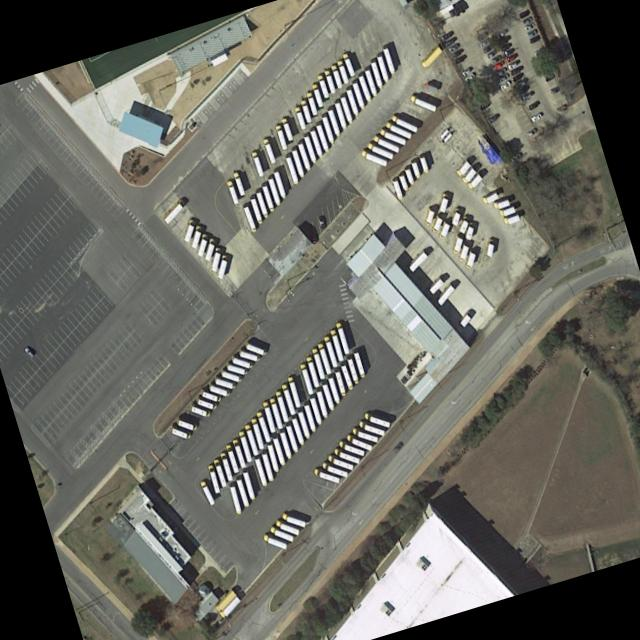large-vehicle: (162, 198, 186, 223), (404, 250, 427, 275), (433, 283, 455, 308), (420, 44, 442, 68), (243, 422, 259, 455), (255, 409, 271, 441), (359, 148, 387, 166), (299, 361, 314, 394), (390, 113, 417, 131), (280, 382, 295, 414), (365, 141, 393, 158), (410, 92, 436, 110), (335, 320, 349, 353), (238, 428, 252, 461), (329, 327, 343, 360), (287, 373, 301, 406), (384, 120, 411, 137), (379, 127, 406, 144), (372, 134, 399, 151), (231, 437, 246, 467), (224, 442, 239, 472), (250, 416, 264, 448), (268, 396, 282, 428), (274, 389, 288, 421), (323, 334, 337, 366), (317, 341, 331, 373), (311, 346, 325, 378), (326, 453, 354, 469), (305, 354, 319, 386), (345, 433, 371, 450), (321, 460, 347, 477), (218, 450, 233, 479), (262, 400, 276, 431), (332, 446, 359, 462), (235, 476, 249, 506), (212, 456, 226, 486), (228, 484, 242, 514), (290, 149, 305, 177), (344, 87, 359, 115), (357, 419, 383, 435), (338, 439, 364, 455), (313, 466, 339, 482), (269, 524, 293, 541), (272, 435, 286, 464), (267, 176, 281, 205), (321, 114, 335, 143), (309, 128, 323, 157), (297, 141, 311, 170), (285, 154, 299, 183), (351, 427, 378, 442), (207, 462, 220, 493), (199, 479, 215, 504), (243, 204, 257, 232), (266, 443, 280, 471), (321, 382, 335, 410), (326, 107, 340, 135), (302, 134, 316, 162), (339, 95, 353, 123), (351, 80, 365, 108), (275, 518, 299, 534), (362, 412, 389, 426), (272, 170, 286, 197), (382, 46, 396, 73), (369, 61, 383, 88), (242, 469, 255, 498), (260, 451, 273, 480), (254, 456, 267, 485), (279, 430, 292, 459), (297, 409, 310, 438), (261, 183, 274, 211), (327, 375, 340, 403), (315, 389, 328, 417), (309, 396, 322, 424), (303, 403, 316, 431), (291, 416, 304, 444), (285, 424, 298, 452), (315, 123, 328, 151), (334, 100, 347, 128), (364, 68, 377, 96), (357, 74, 371, 100), (424, 277, 443, 296), (262, 532, 286, 547), (353, 350, 366, 377), (249, 196, 262, 223), (340, 363, 353, 389), (255, 190, 268, 216), (346, 357, 359, 383), (334, 369, 347, 395), (262, 136, 275, 162), (376, 54, 389, 80), (281, 512, 305, 526), (226, 178, 239, 203), (216, 253, 229, 278), (209, 246, 222, 270), (251, 150, 263, 176), (336, 58, 349, 82), (280, 116, 293, 140), (342, 51, 355, 75), (233, 170, 245, 195), (330, 63, 342, 88), (275, 123, 287, 148), (182, 218, 195, 241), (310, 82, 323, 105), (196, 232, 208, 256), (317, 72, 329, 96), (306, 90, 318, 114), (293, 104, 305, 128), (203, 237, 216, 259), (190, 224, 202, 247), (220, 368, 241, 381), (209, 383, 230, 396), (170, 425, 190, 438), (176, 418, 196, 431), (196, 396, 216, 409), (245, 341, 265, 354), (232, 355, 252, 368), (324, 68, 335, 91), (300, 98, 311, 121), (214, 376, 235, 388), (201, 389, 220, 402), (238, 349, 259, 360), (226, 363, 247, 374), (190, 404, 209, 416), (392, 178, 403, 198)
small-vehicle: (454, 157, 471, 176), (460, 164, 477, 183), (466, 170, 483, 189), (463, 218, 476, 241), (456, 213, 470, 234), (450, 204, 463, 226), (481, 189, 499, 204), (409, 158, 422, 178), (457, 241, 470, 261), (438, 191, 450, 212), (438, 219, 451, 238), (492, 195, 511, 208), (497, 203, 516, 216), (484, 236, 495, 258), (430, 213, 443, 231), (403, 165, 415, 184), (418, 154, 430, 173), (464, 249, 476, 268), (397, 172, 409, 190), (452, 235, 464, 253), (501, 211, 519, 223), (423, 208, 434, 225), (392, 438, 403, 453), (529, 110, 542, 122), (463, 70, 475, 83), (478, 35, 491, 47), (486, 112, 498, 124), (478, 98, 490, 110), (440, 29, 452, 41), (476, 29, 488, 41), (490, 52, 502, 64), (528, 33, 541, 44), (485, 47, 498, 58), (492, 58, 505, 69), (503, 52, 516, 63), (543, 71, 555, 82), (526, 99, 538, 110), (525, 125, 537, 136), (460, 65, 471, 77), (447, 41, 459, 52), (23, 345, 34, 357), (497, 71, 509, 82), (444, 36, 455, 47), (522, 14, 533, 25), (495, 65, 506, 76), (317, 213, 325, 228), (526, 27, 538, 37), (523, 19, 535, 29), (518, 8, 530, 18), (482, 42, 494, 52), (499, 79, 511, 89), (512, 150, 523, 160), (520, 90, 531, 100), (515, 77, 526, 87), (495, 27, 506, 37), (549, 84, 561, 93), (451, 48, 463, 57), (502, 46, 514, 55), (511, 72, 522, 81), (499, 41, 510, 50), (506, 59, 517, 68), (453, 54, 463, 63), (509, 66, 520, 74)
